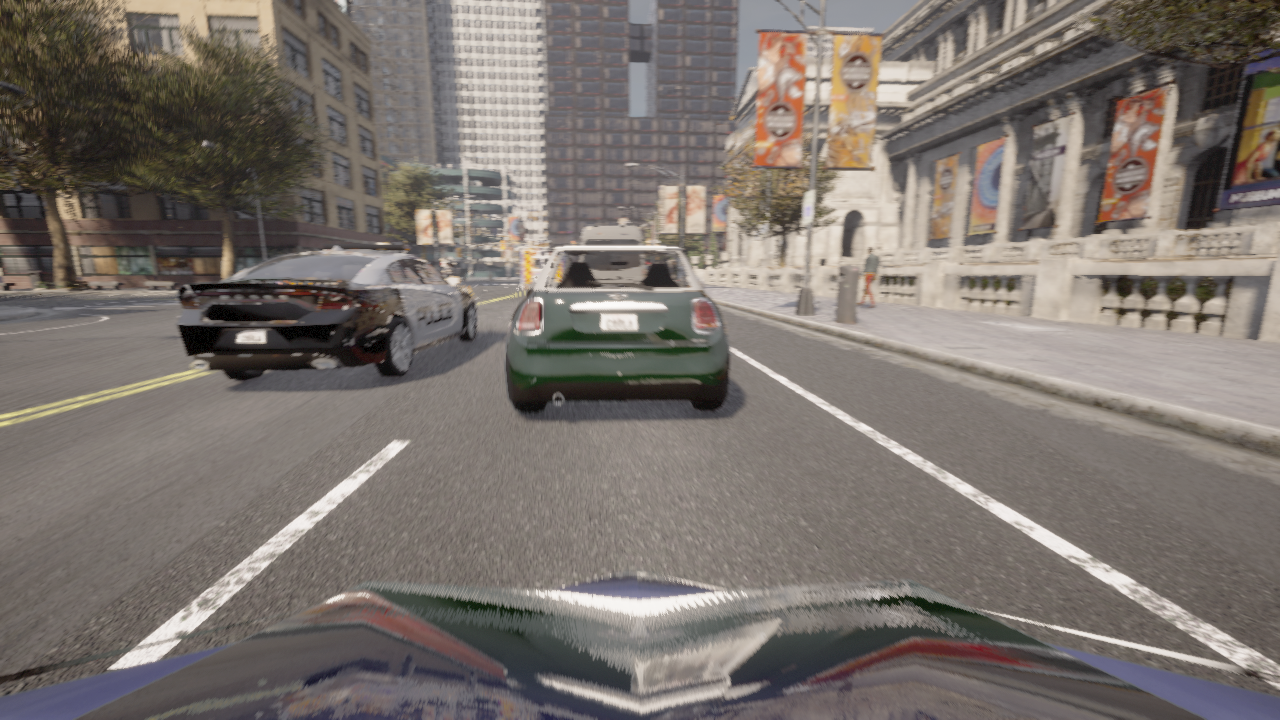cyclist: (0, 569, 1279, 719), (176, 242, 476, 380), (505, 245, 730, 412), (521, 250, 553, 294), (581, 225, 642, 244)
pedestrian: (857, 246, 879, 308)
